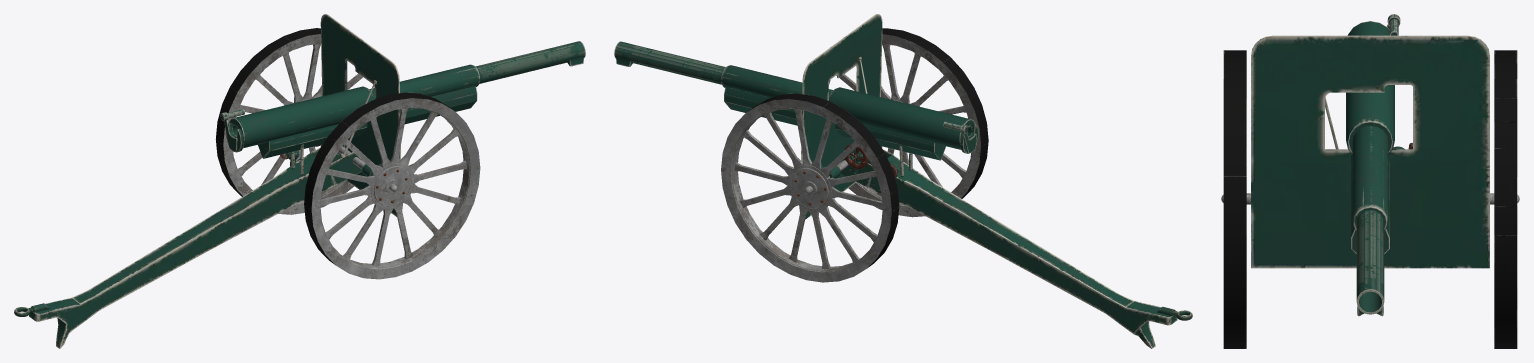
File: fieldgun.glb
3 views of the same model, side by side, from view 1: azimuth 30°, elevation 25°; view 2: azimuth 150°, elevation 25°; view 3: azimuth 270°, elevation 25° (orthographic). The views are drawn at different scales.
Visible parts, largest first — view 1: defaultMaterial (×3); view 2: defaultMaterial (×3); view 3: defaultMaterial (×3).
Part boxes in pixels (x1,y1,x2,y2): defaultMaterial (×3): [14, 14, 585, 348]; defaultMaterial (×3): [614, 14, 1192, 348]; defaultMaterial (×3): [1221, 14, 1519, 348].
Bounding box in the file's own units: 4.14 × 1.63 × 1.23.
3 materials, 3 textured.
